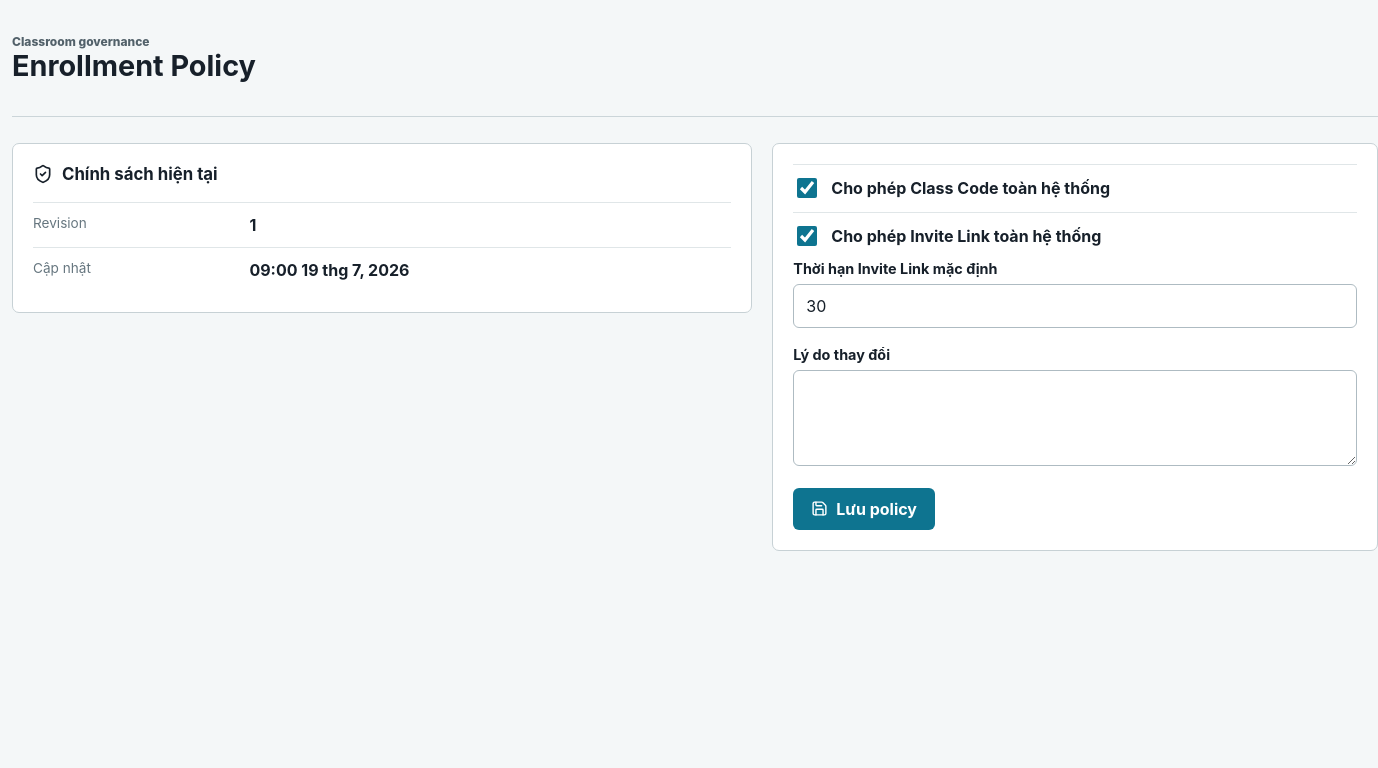
Test case: Phase 03 Classroom UI › updates Enrollment Policy with revision and a required reason
Expected: the text "Revision" is shown, [33,214,87,230]
Type "Academic term policy review" into the text box labelled "Lý do thay đổi" at point(1075, 418), box [793,370,1357,466]
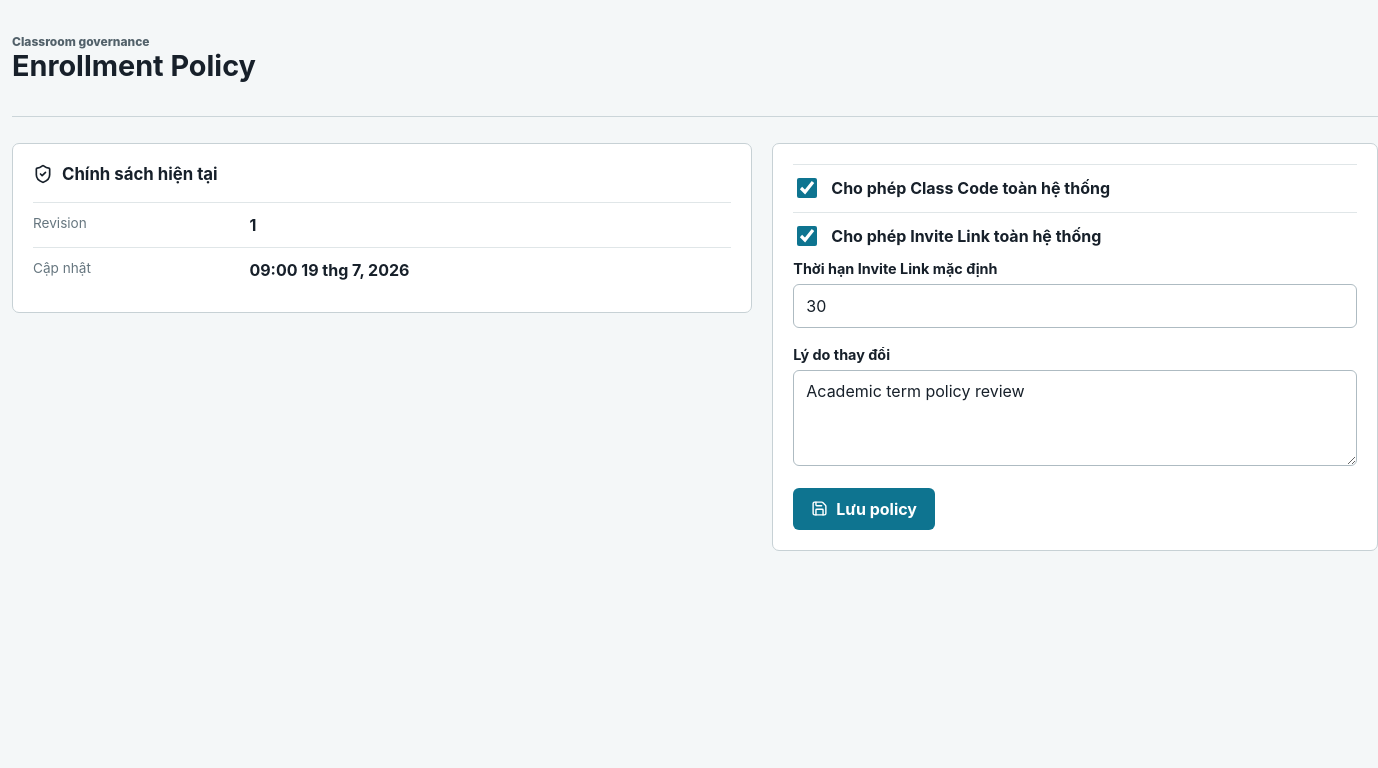
Click the button "Lưu policy" at point(864, 508), box [793,488,935,530]
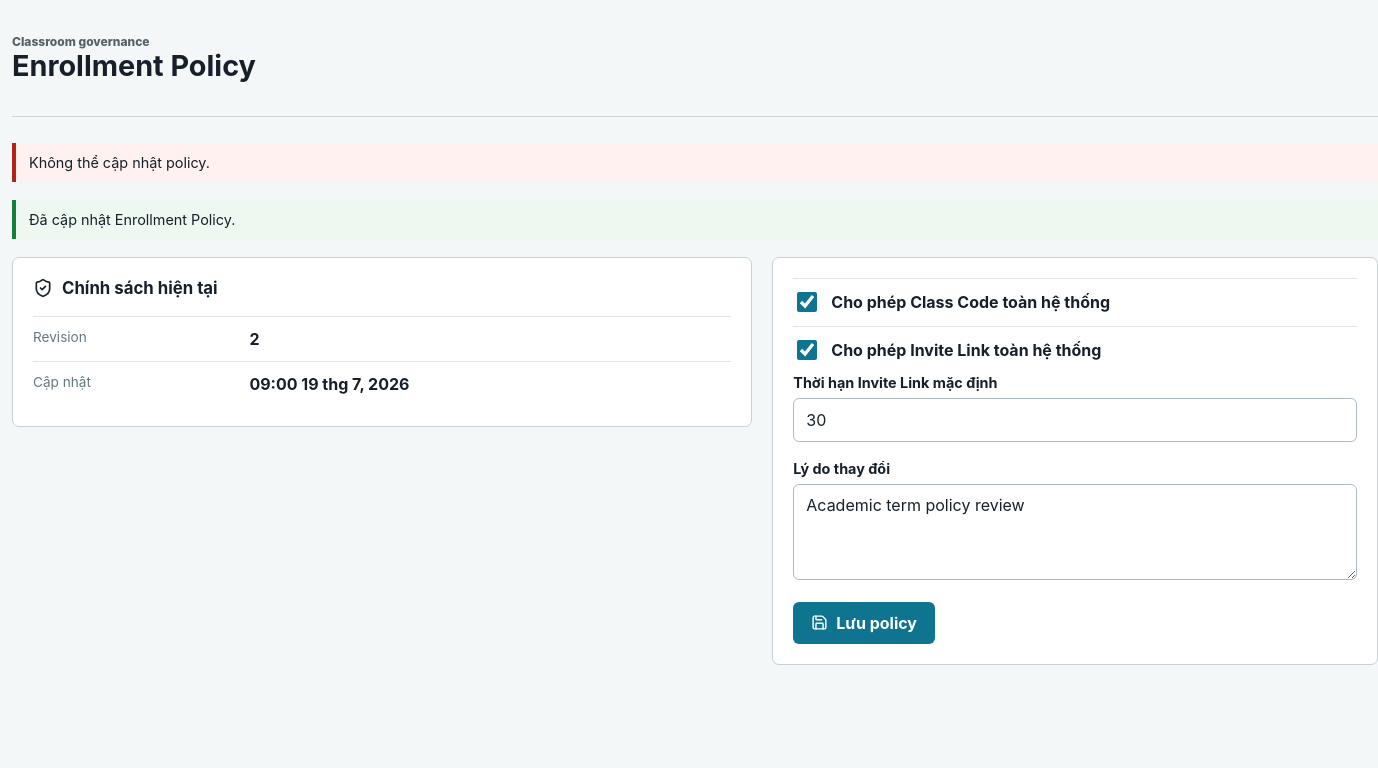
Now the text "Đã cập nhật Enrollment Policy." is shown, box [12,200,1377,238]
